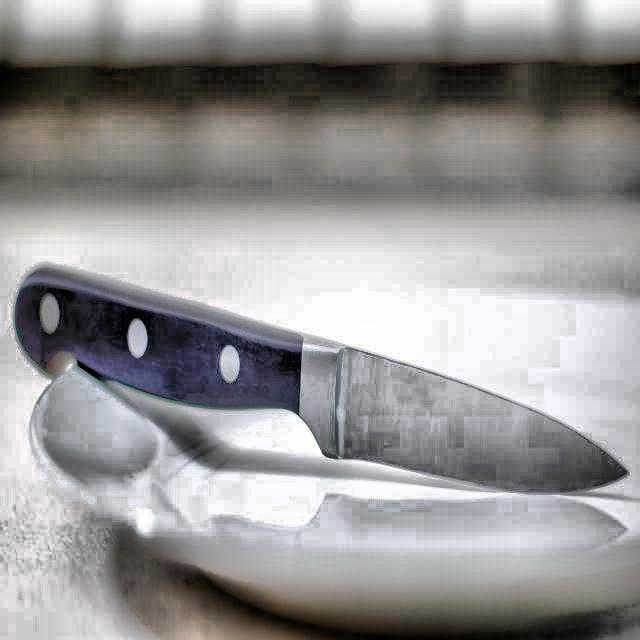knife: (14, 261, 635, 489)
